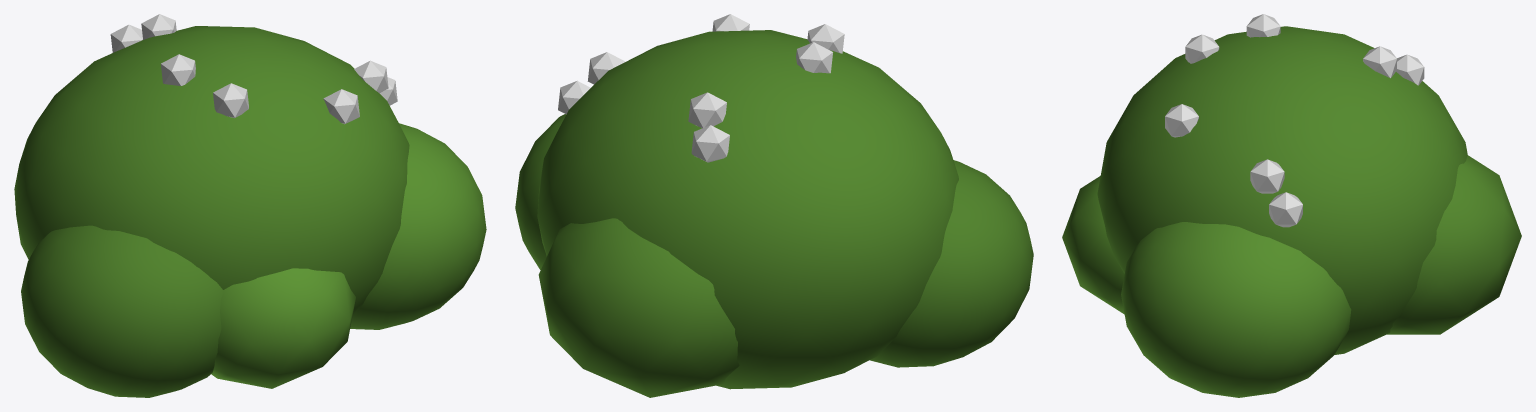
The model's file is p_bush_2.glb.
3 views of the same model, side by side, from view 1: azimuth 30°, elevation 25°; view 2: azimuth 150°, elevation 25°; view 3: azimuth 270°, elevation 25° (orthographic). The views are drawn at different scales.
Visible parts, largest first — view 1: body; view 2: body; view 3: body.
Boxes of the visible parts, x1,y1,x2,y2 form: body: (14,14,486,397); body: (515,14,1033,397); body: (1062,14,1521,397).
Size of the model in its own units: 2.13 by 1.42 by 1.95.
